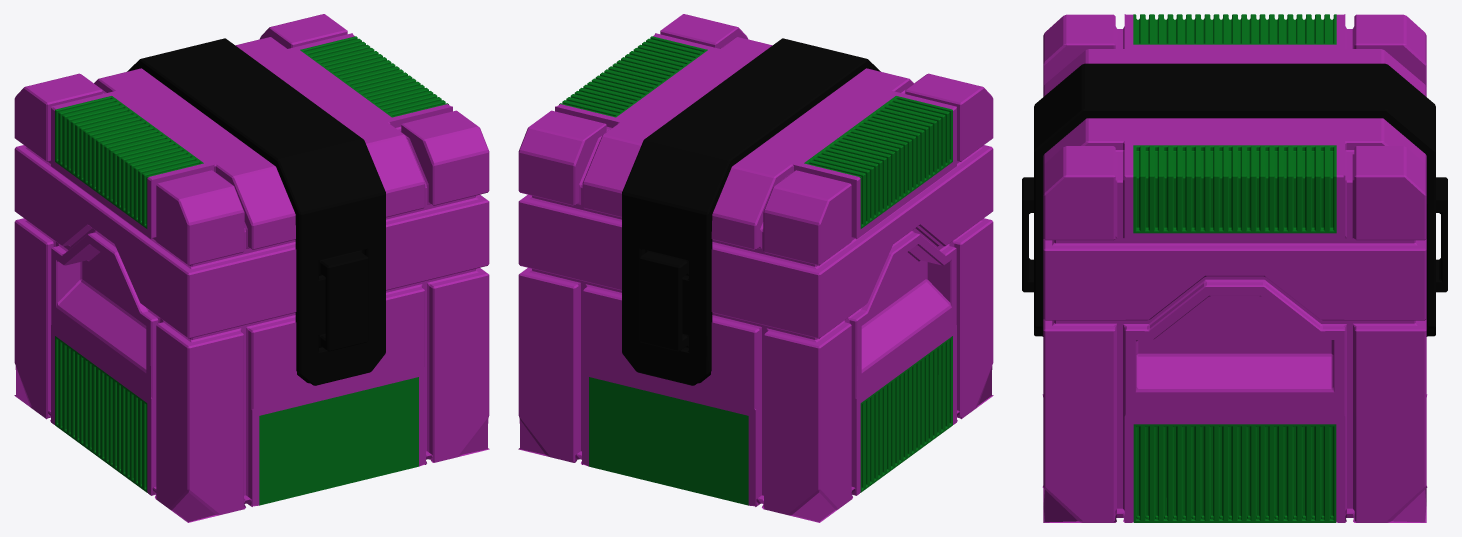
File: scifiCrate.glb
3 renders of one model, left to right at view 1: azimuth 30°, elevation 25°; view 2: azimuth 150°, elevation 25°; view 3: azimuth 270°, elevation 25°, orthographic. The views are drawn at different scales.
Visible parts, largest first — view 1: Crate, Crate Bumpers, Create Latch; view 2: Crate, Crate Bumpers, Create Latch; view 3: Crate, Crate Bumpers, Create Latch.
Boxes of the visible parts, x1,y1,x2,y2 form: Crate: (14,14,489,522); Crate Bumpers: (55,36,448,505); Create Latch: (127,38,385,385); Crate: (518,14,993,522); Crate Bumpers: (559,36,952,505); Create Latch: (622,38,880,385); Crate: (1042,14,1427,522); Crate Bumpers: (1133,14,1336,522); Create Latch: (1022,63,1447,336).
Size of the model in its own units: 2 by 2.05 by 2.22.
